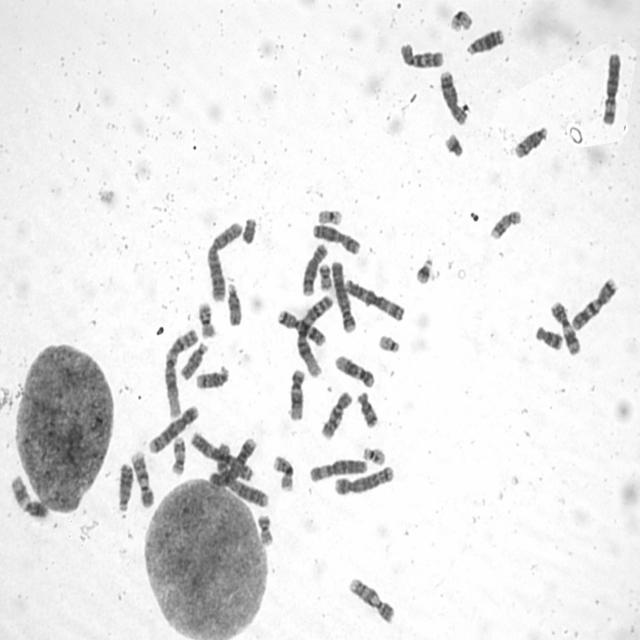A1: (160, 323, 199, 419), (293, 291, 333, 379)
A2: (211, 438, 270, 508), (203, 217, 244, 303)
A3: (187, 427, 255, 482), (341, 275, 406, 323)
B4: (207, 434, 257, 488), (328, 256, 357, 334)
B5: (145, 401, 200, 455), (331, 461, 396, 497)
C10: (317, 387, 354, 441), (396, 39, 445, 70)
C11: (547, 297, 582, 356), (8, 471, 50, 520)
C12: (332, 351, 376, 389), (285, 366, 306, 422)
C6: (598, 48, 624, 127), (306, 454, 369, 484)
C7: (568, 274, 618, 332), (273, 305, 326, 348)
C8: (436, 66, 469, 126), (299, 239, 329, 297)
C9: (345, 572, 396, 624), (127, 447, 155, 509)
D13: (464, 24, 505, 56), (114, 459, 134, 513)
D14: (511, 122, 549, 160), (192, 361, 230, 390)
D15: (177, 338, 209, 382), (223, 279, 243, 327)
E16: (269, 451, 295, 493), (195, 298, 216, 340)
E17: (487, 206, 522, 241), (168, 432, 187, 477)
E18: (353, 388, 379, 430), (532, 322, 565, 352)
F19: (447, 5, 474, 33), (314, 205, 344, 226)
F20: (254, 510, 274, 548), (316, 260, 334, 291)
G21: (412, 252, 436, 286), (442, 129, 465, 159)
G22: (359, 443, 387, 466), (375, 330, 401, 354)
X: (309, 220, 361, 255)
Y: (239, 214, 258, 245)
